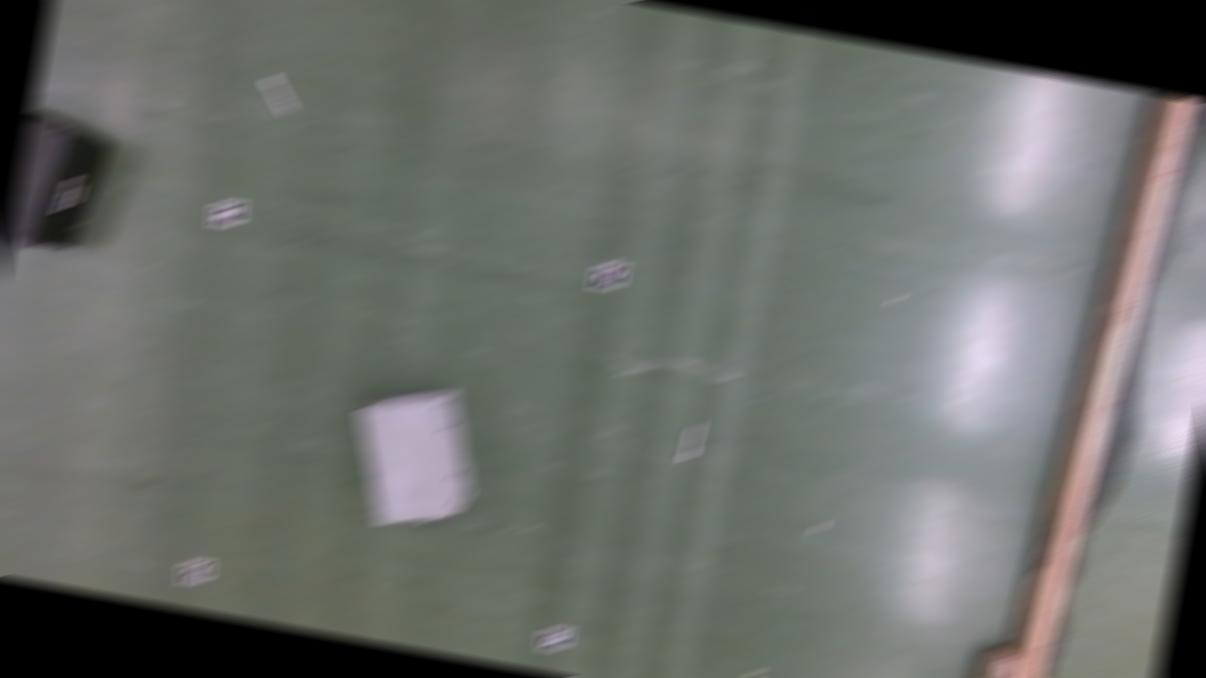probes: (258, 73, 298, 112), (679, 420, 702, 459)
rako: (336, 374, 490, 534), (4, 108, 117, 256)
